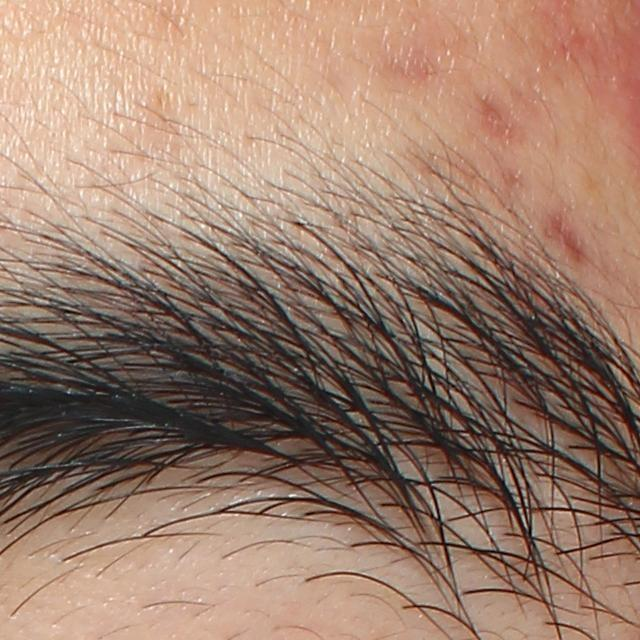atrophic_scar: (475, 82, 522, 145), (548, 212, 598, 267)
